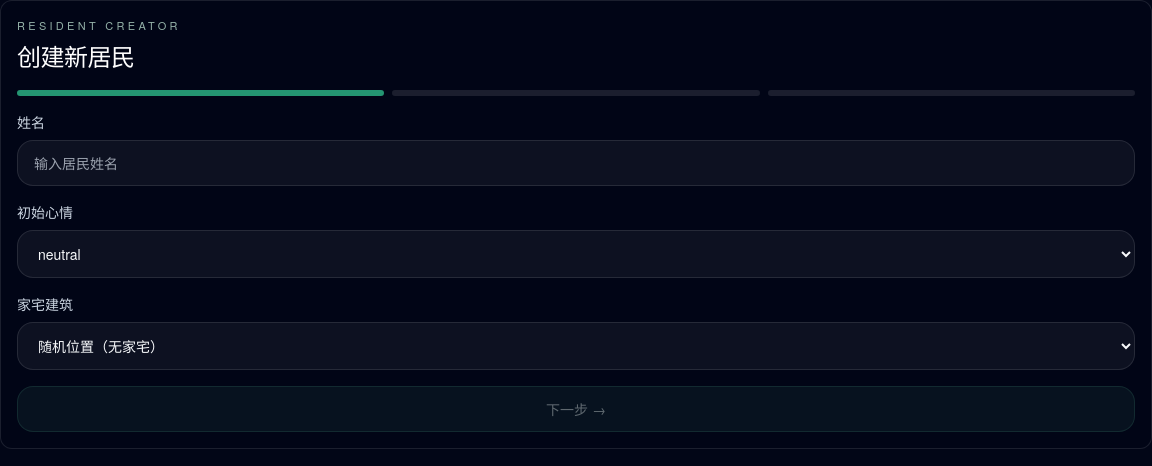
Test: ResidentCreationWizard › advances to step 2 (personality) after clicking next
Type "TestName" into the field with placeholder "输入居民姓名".
click(576, 162); type("TestName")  # box [17,140,1135,186]
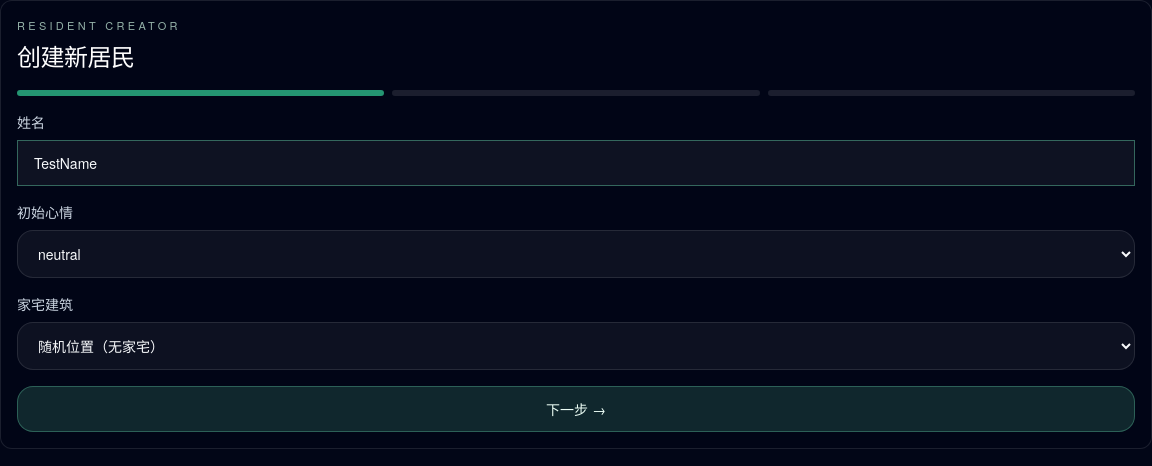
Click the button "下一步 →".
click(576, 408)  # box [17,386,1135,432]
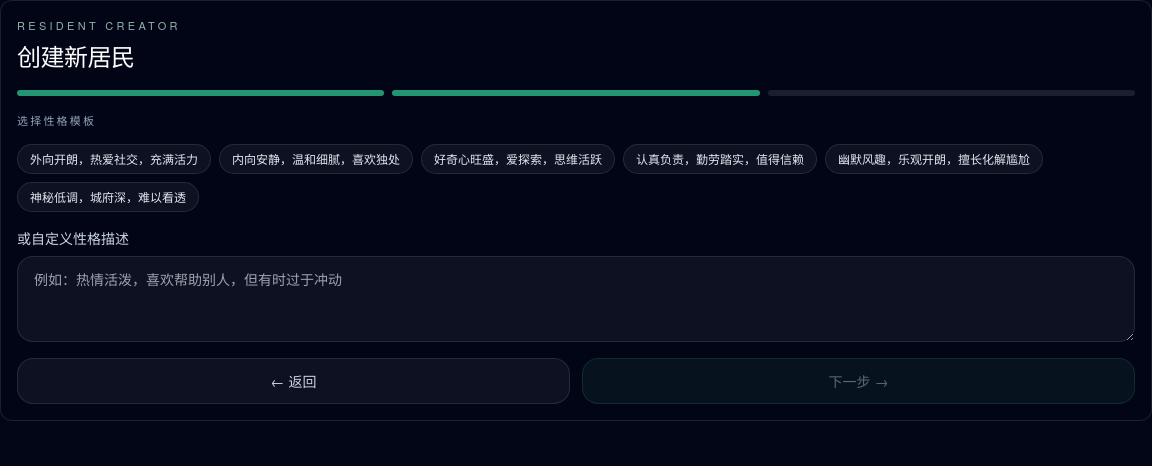
Now the text "选择性格模板" is shown, box [17,112,96,128]
